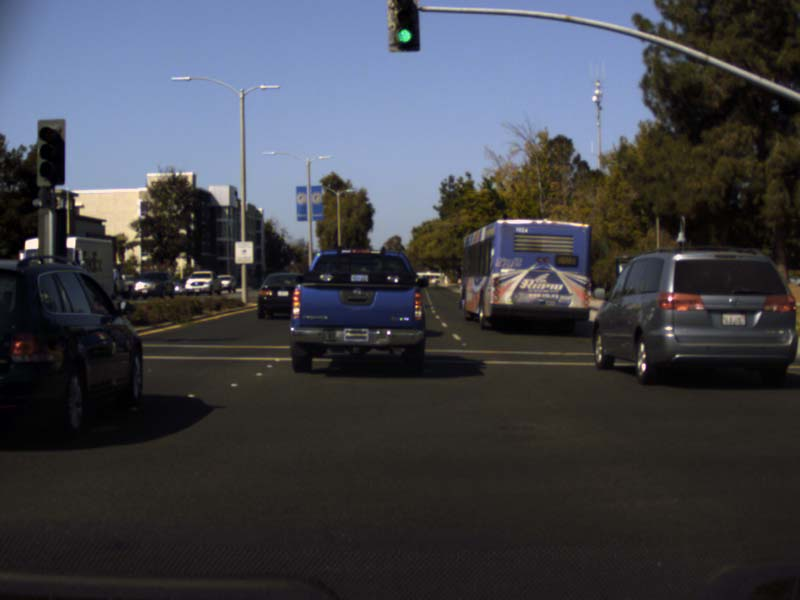Red: (35, 118, 66, 185)
